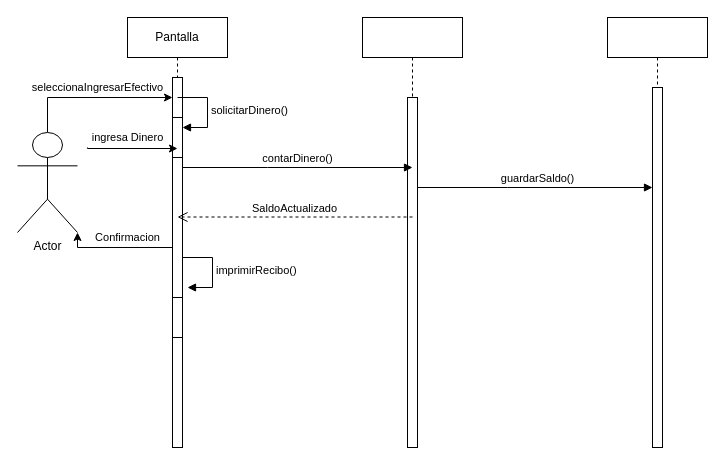
Some shapes in this 725 by 465 pixel diagram are drawn without their labels. Each missing label, with the box of its shape:
cuentaService: (362, 16, 462, 448)
Repository: (606, 16, 708, 448)
